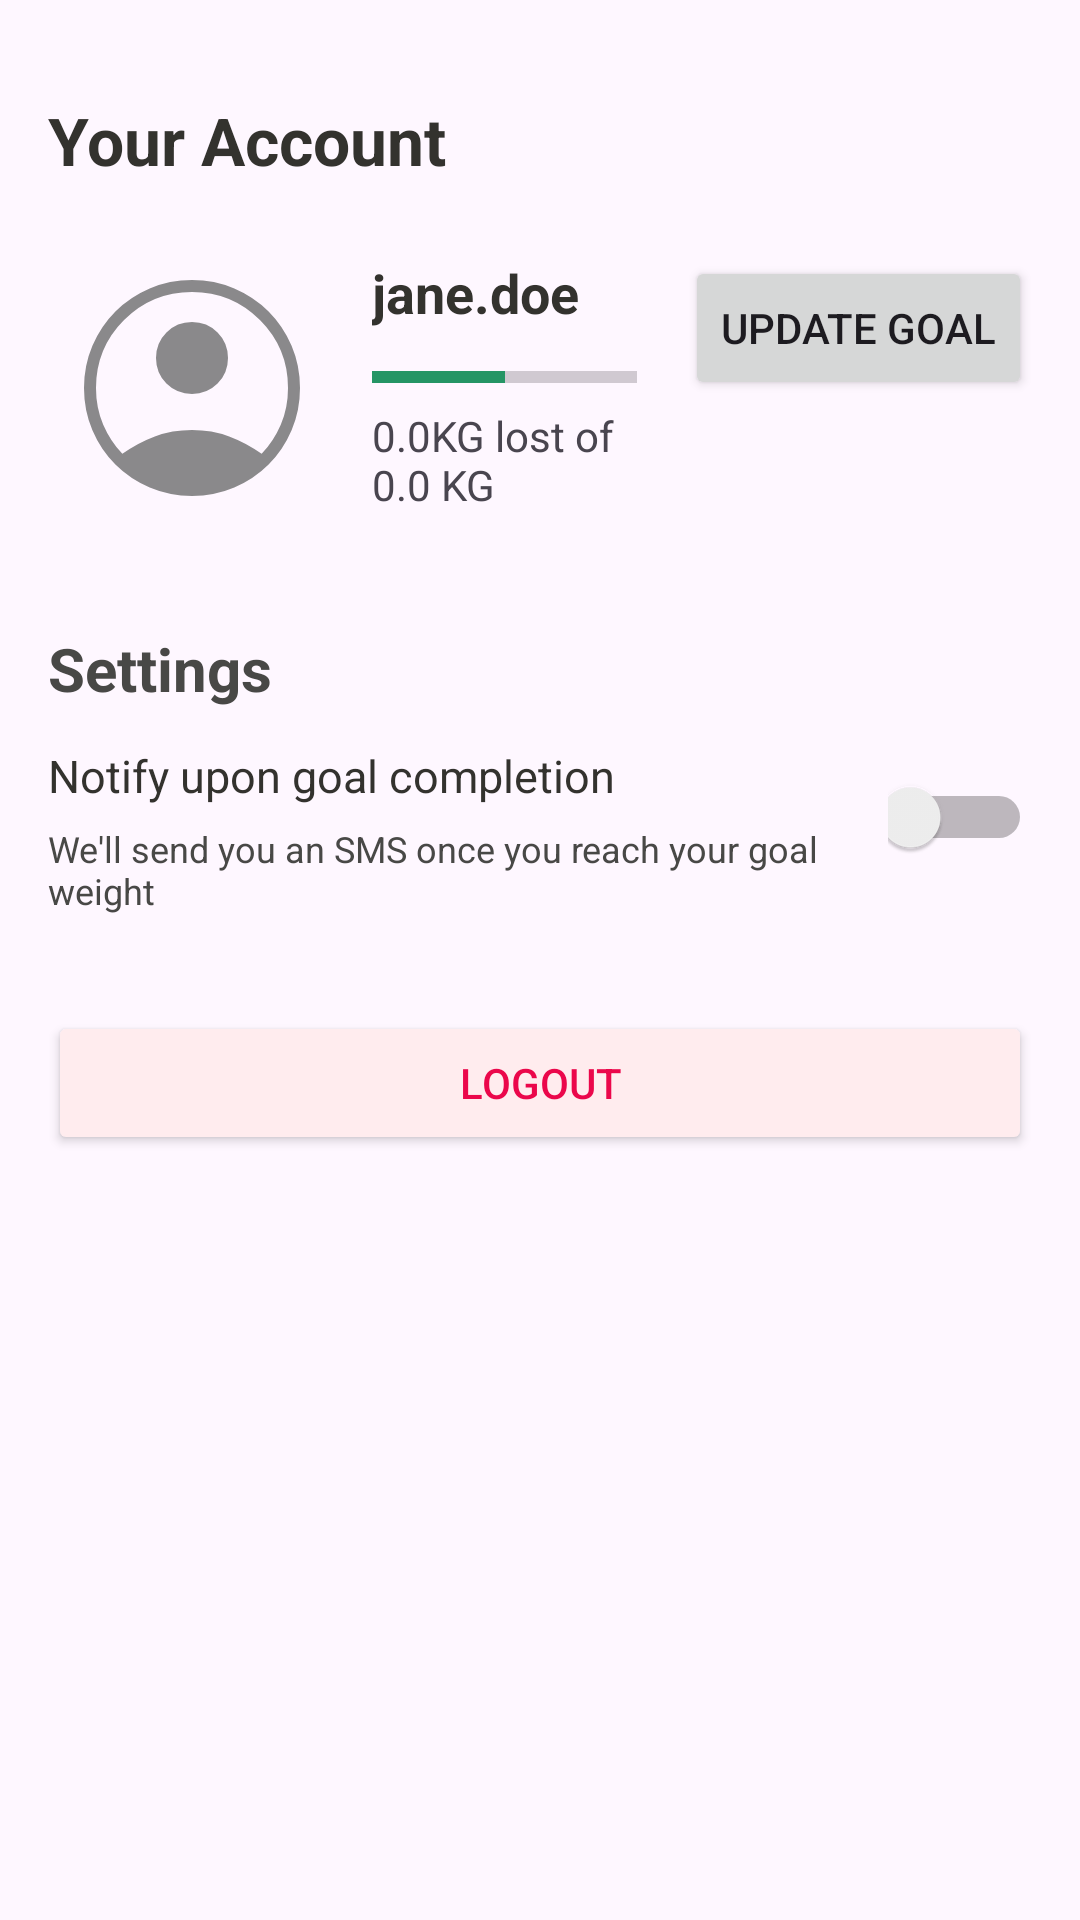

Icons on this 1080×1920 Android screen, each with the point to tap as point (x, y):
Profile Picture: point (192, 388)
